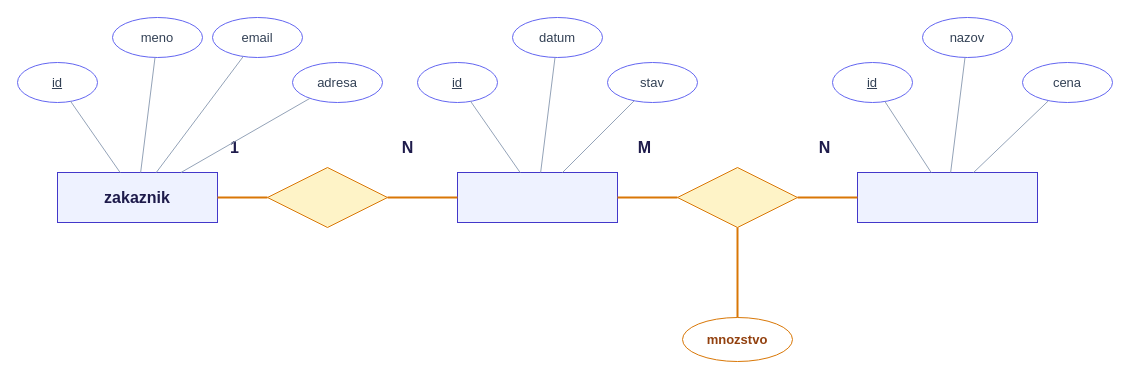
Some shapes in this 1130 by 379 pixel diagram are drawn without their labels. Here are the shapes that lost their labels. From the top down, the centre of each, then its label:
At pixel 327 197: "má vystavenú".
At pixel 537 197: "faktura".
At pixel 737 197: "obsahuje".
At pixel 947 197: "polozka_cennika".
